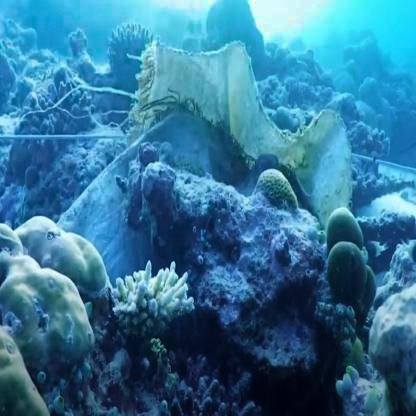plastic: (128, 23, 359, 228)
